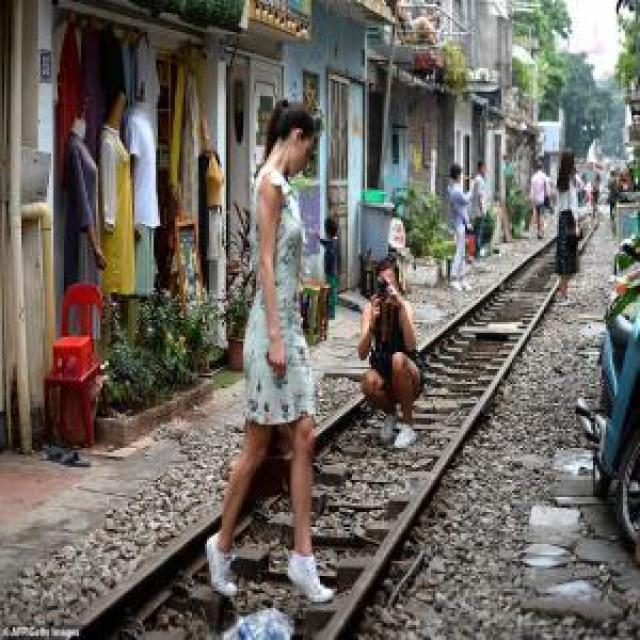danger: (185, 362, 244, 604), (18, 386, 78, 608), (90, 384, 136, 640), (126, 419, 175, 577)
